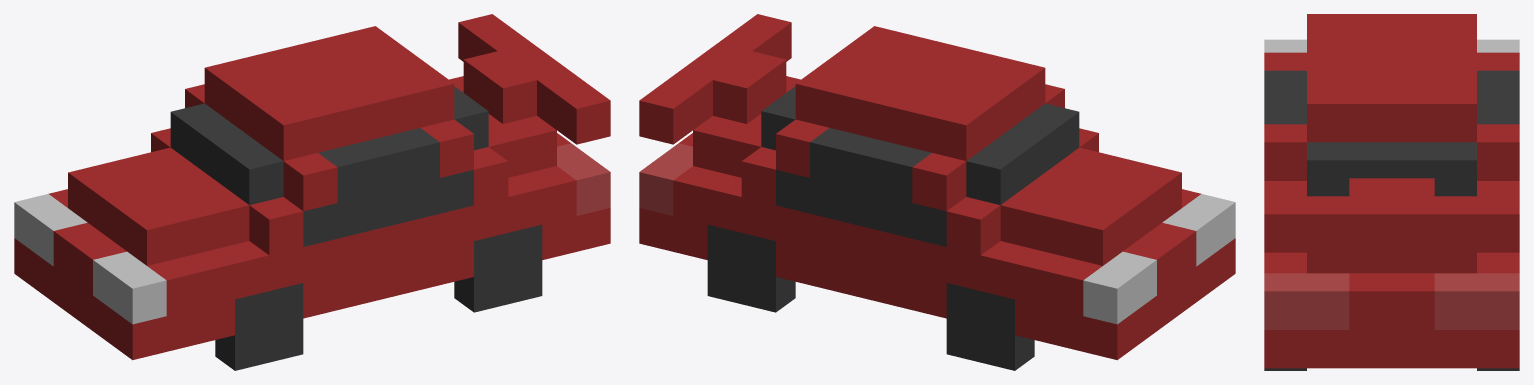
Rendered from racer-v1-red.gltf.
The picture shows the model from 3 angles, left to right: view 1: azimuth 30°, elevation 25°; view 2: azimuth 150°, elevation 25°; view 3: azimuth 270°, elevation 25°; orthographic projection. The views are drawn at different scales.
Visible parts, largest first — view 1: model, wheels; view 2: model, wheels; view 3: model, wheels.
Boxes of the visible parts, x1=… form: model: x1=14, y1=14, x2=610, y2=360; wheels: x1=215, y1=224, x2=542, y2=370; model: x1=639, y1=14, x2=1235, y2=360; wheels: x1=707, y1=224, x2=1034, y2=370; model: x1=1264, y1=14, x2=1519, y2=368; wheels: x1=1264, y1=368, x2=1519, y2=370.
Bounding box in the file's own units: 1.4 × 0.6 × 0.6.
Materials: 2 (2 with a texture image).
